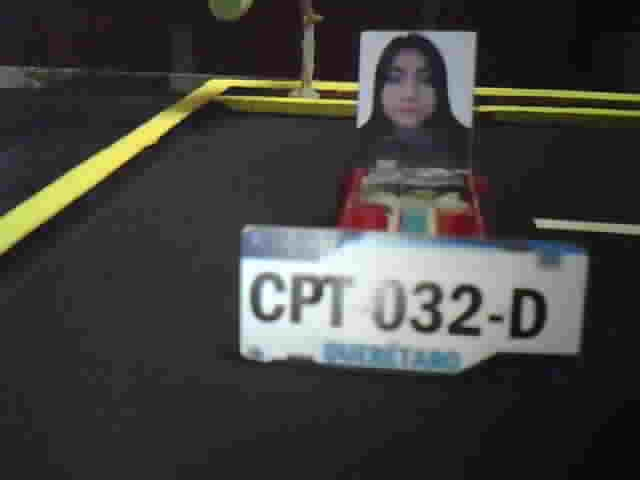PLACA: (235, 222, 593, 389)
ROSTRO: (360, 29, 470, 153)
